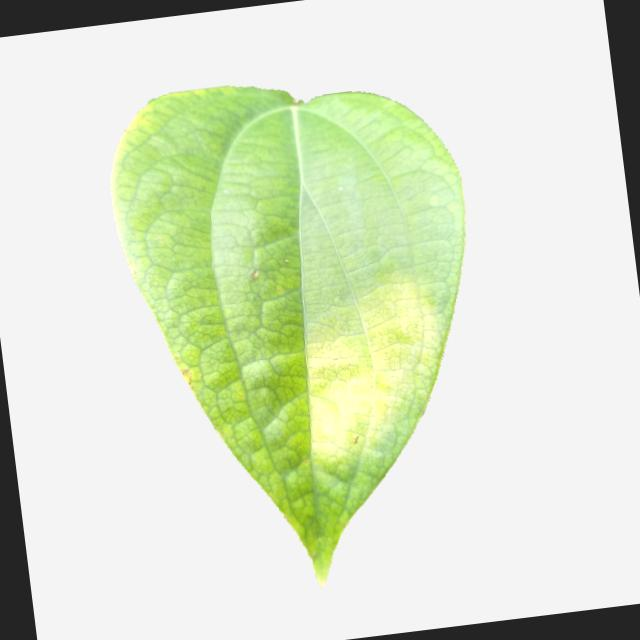healthy: (88, 50, 509, 607)
